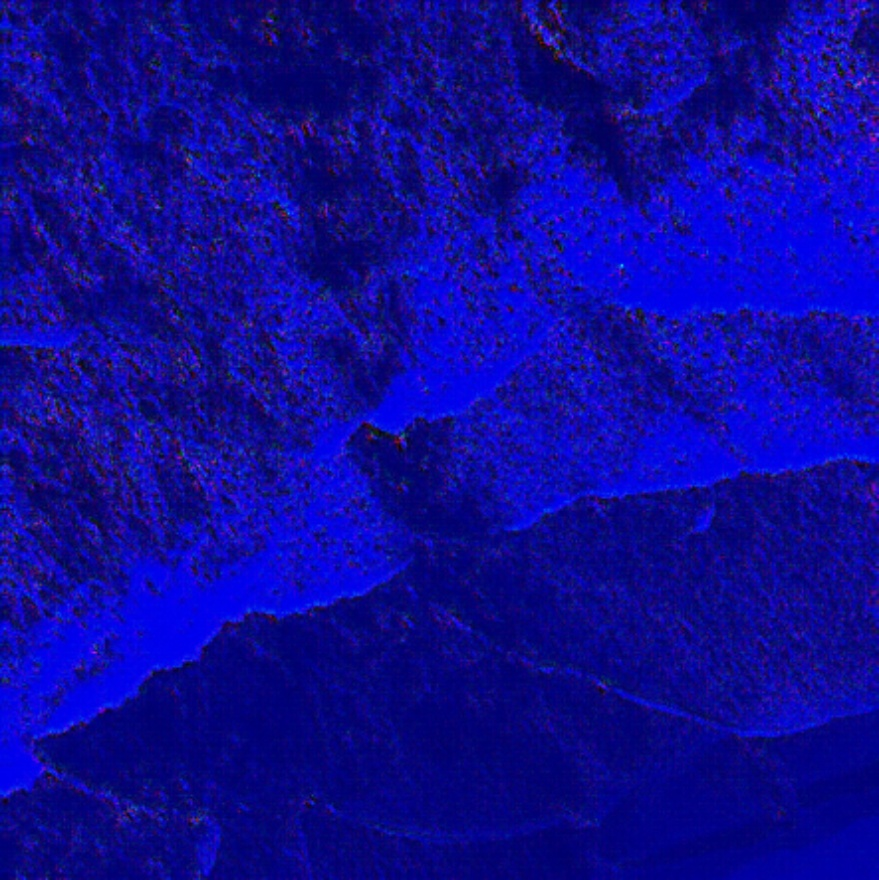rip_current: (250, 92, 515, 544)
